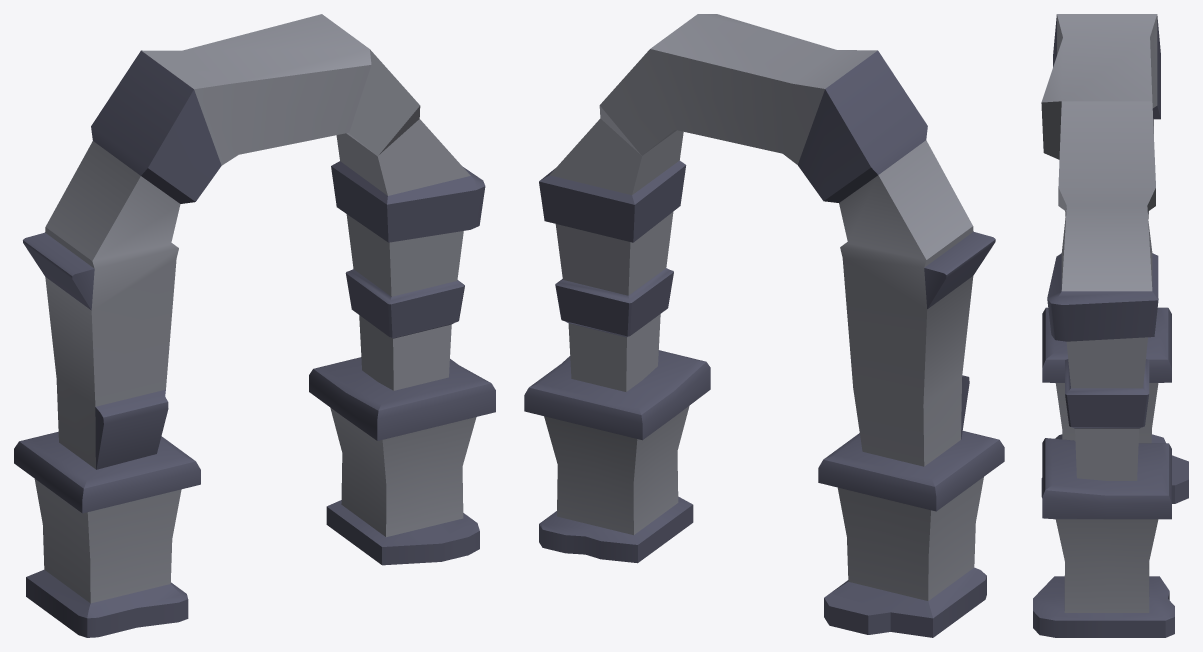
File: portal.fbx
3 renders of one model, left to right at view 1: azimuth 30°, elevation 25°; view 2: azimuth 150°, elevation 25°; view 3: azimuth 270°, elevation 25°, orthographic. The views are drawn at different scales.
Visible parts, largest first — view 1: portal; view 2: portal; view 3: portal.
Part boxes in pixels (bbox=[...]): portal: bbox=[14, 14, 495, 637]; portal: bbox=[524, 14, 1004, 637]; portal: bbox=[1033, 14, 1188, 637].
Bounding box in the file's own units: 735 × 884 × 253.
